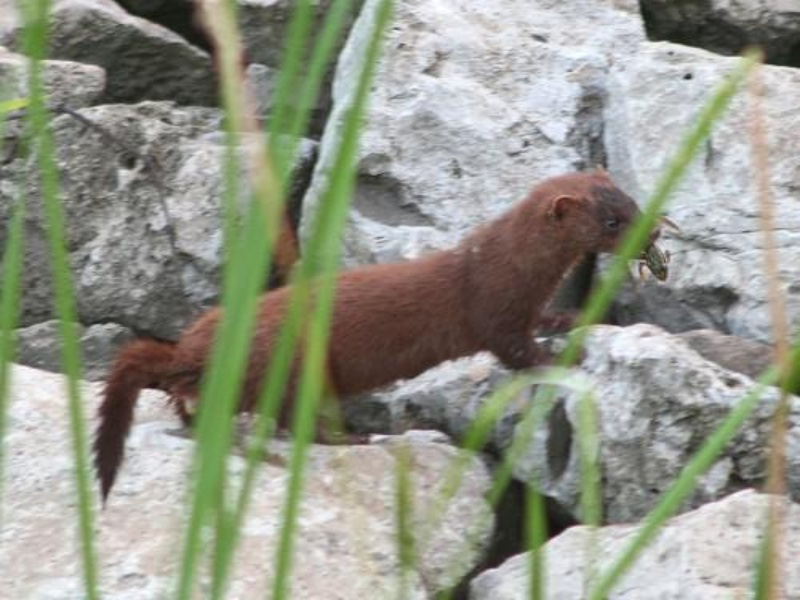minkish: (90, 158, 662, 517)
